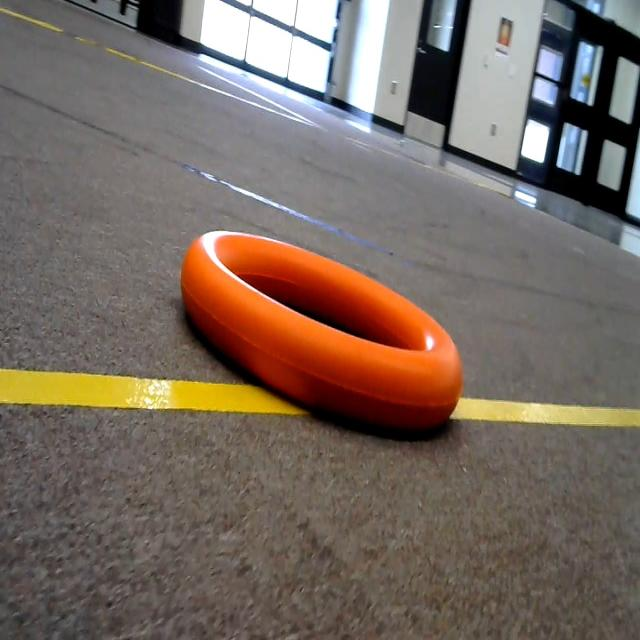note: (160, 172, 503, 472)
